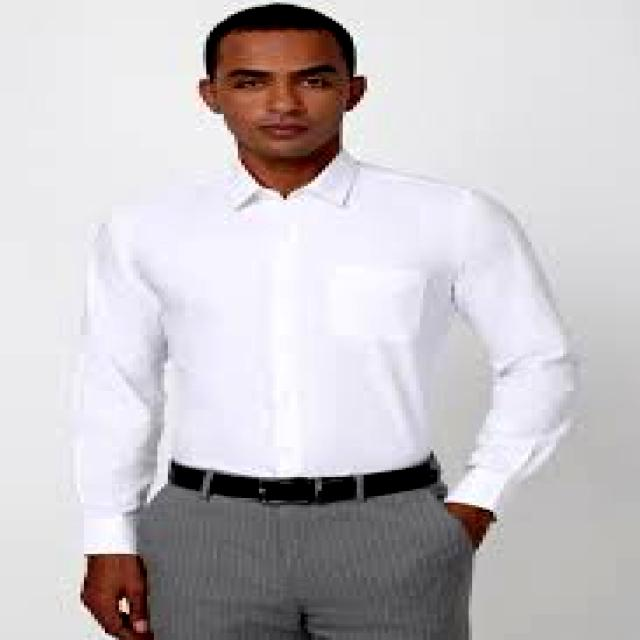face: (200, 31, 367, 160)
lower-wear: (140, 480, 475, 639)
top-wear: (75, 154, 587, 557)
